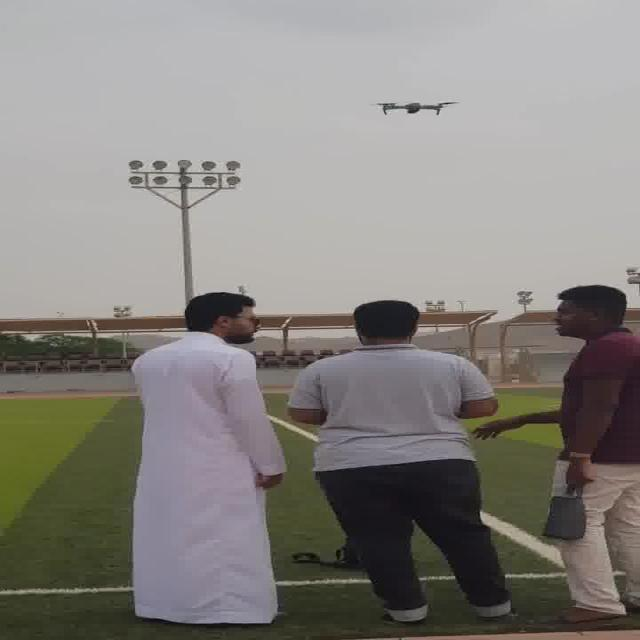drone: (372, 94, 459, 121)
